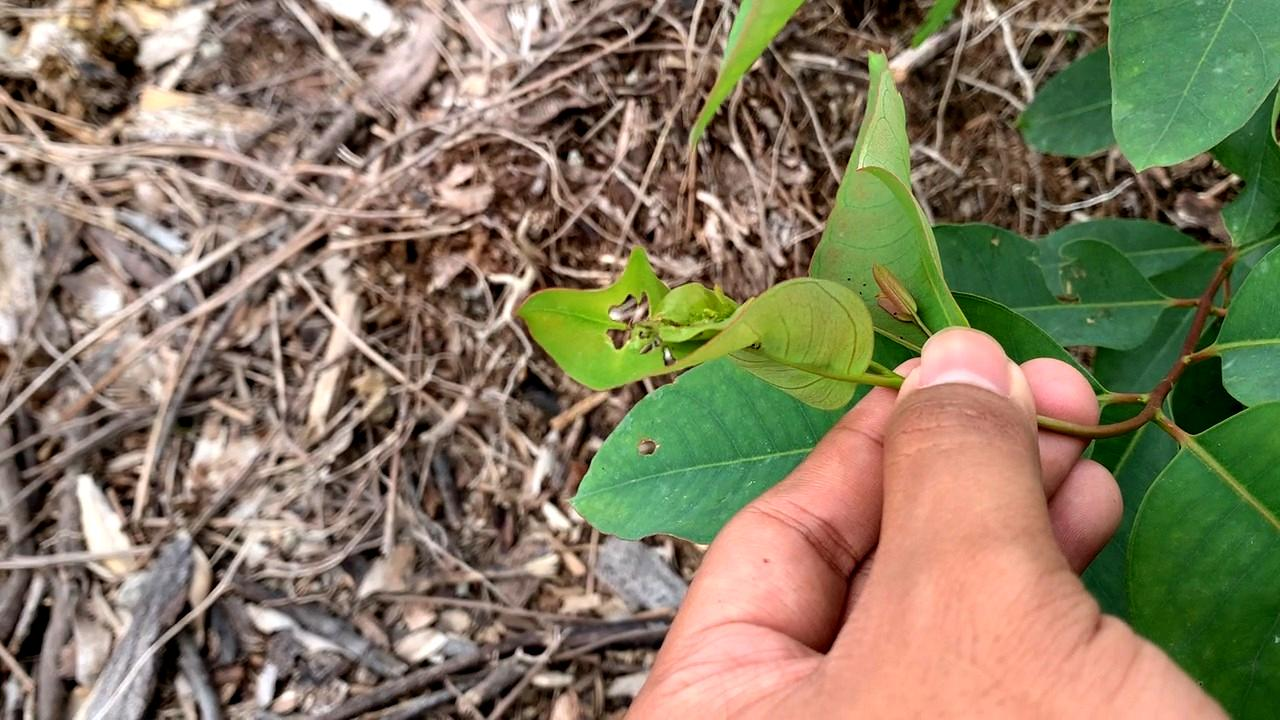Leaf Roller - Leaf: (494, 265, 886, 410)
